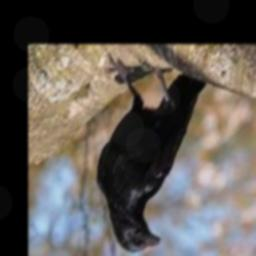Crow: (96, 58, 206, 252)
